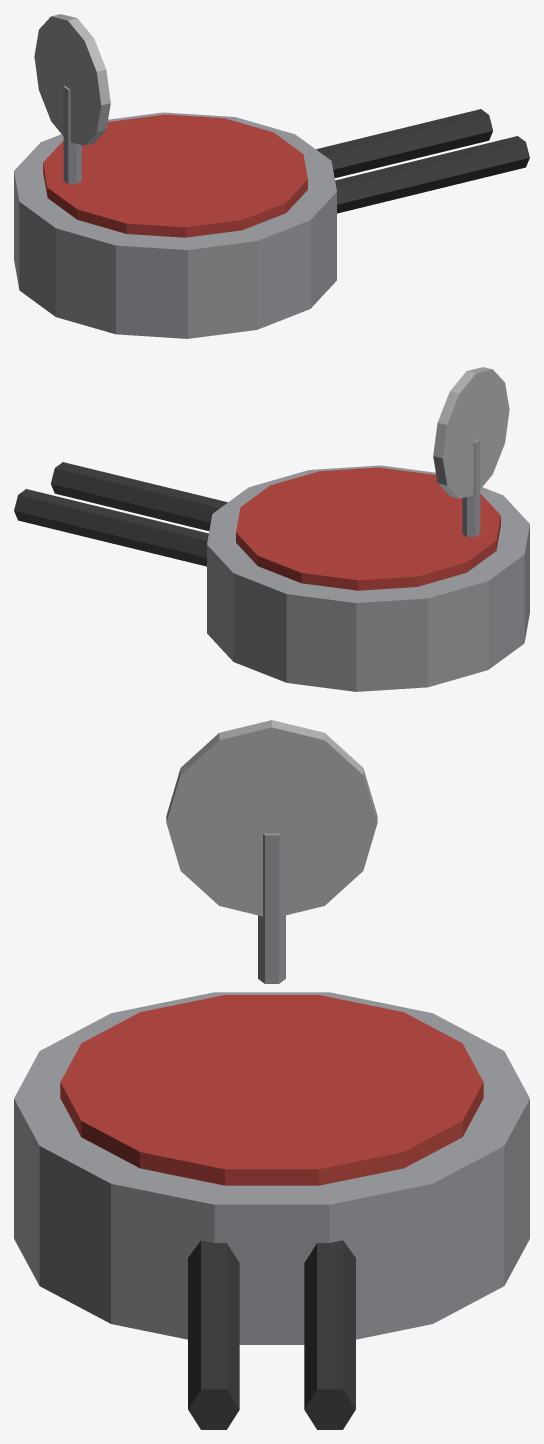
File: fh_battle_e_lev_zsu.glb
3 views of the same model, one above another, from view 1: azimuth 30°, elevation 25°; view 2: azimuth 150°, elevation 25°; view 3: azimuth 270°, elevation 25° (orthographic). The views are drawn at different scales.
Visible parts, largest first — view 1: body; view 2: body; view 3: body.
Boxes of the visible parts, bbox=[...] form: body: bbox=[14, 14, 529, 338]; body: bbox=[14, 367, 529, 691]; body: bbox=[14, 720, 529, 1429].
Bounding box in the file's own units: 1 × 0.5659 × 0.6073.
